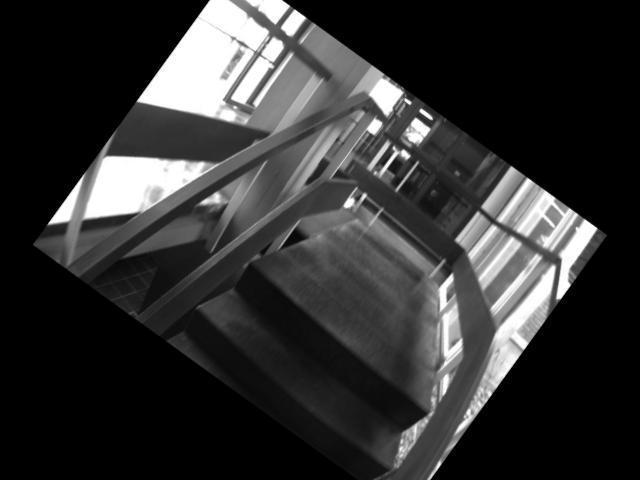Escaleras: (161, 244, 451, 480)
